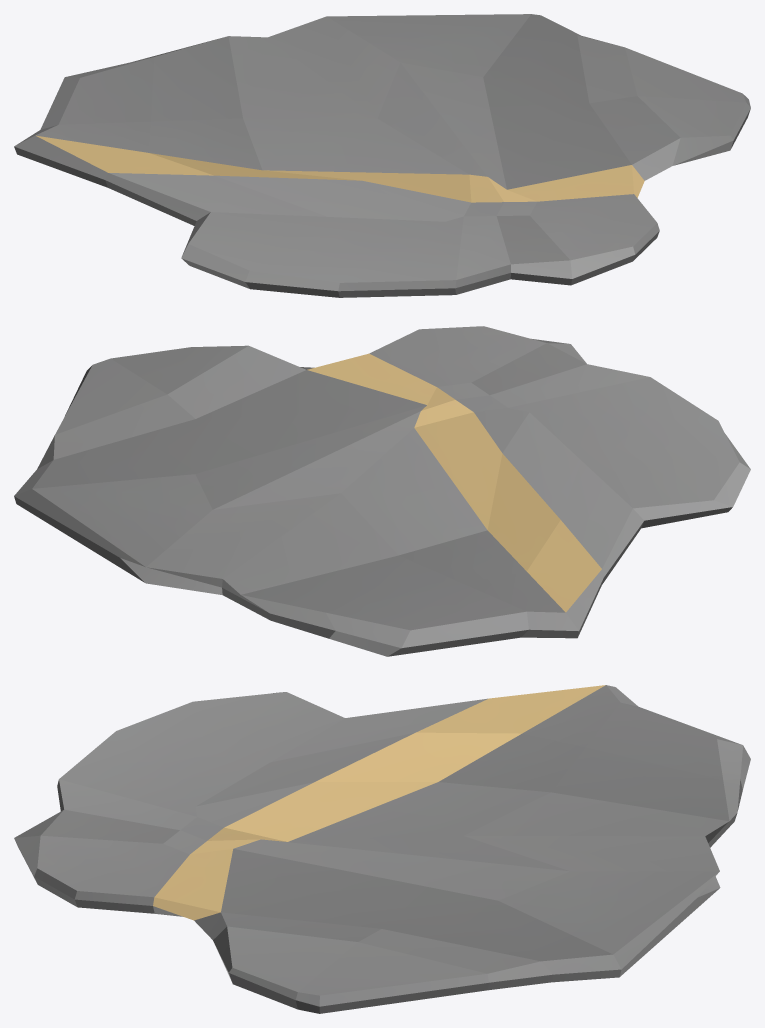
File: road_chunk_1.glb
The picture shows the model from 3 angles, top to bottom: view 1: azimuth 30°, elevation 25°; view 2: azimuth 150°, elevation 25°; view 3: azimuth 270°, elevation 25°; orthographic projection. The views are drawn at different scales.
Parts seen in each view (by area): view 1: road_chunk_1; view 2: road_chunk_1; view 3: road_chunk_1.
Part boxes in pixels (x1,y1,x2,y2): road_chunk_1: (14,14,750,297); road_chunk_1: (14,326,750,656); road_chunk_1: (14,685,750,1013).
Size of the model in its own units: 2.22 by 0.097 by 2.16.
Materials: 1 (1 with a texture image).
